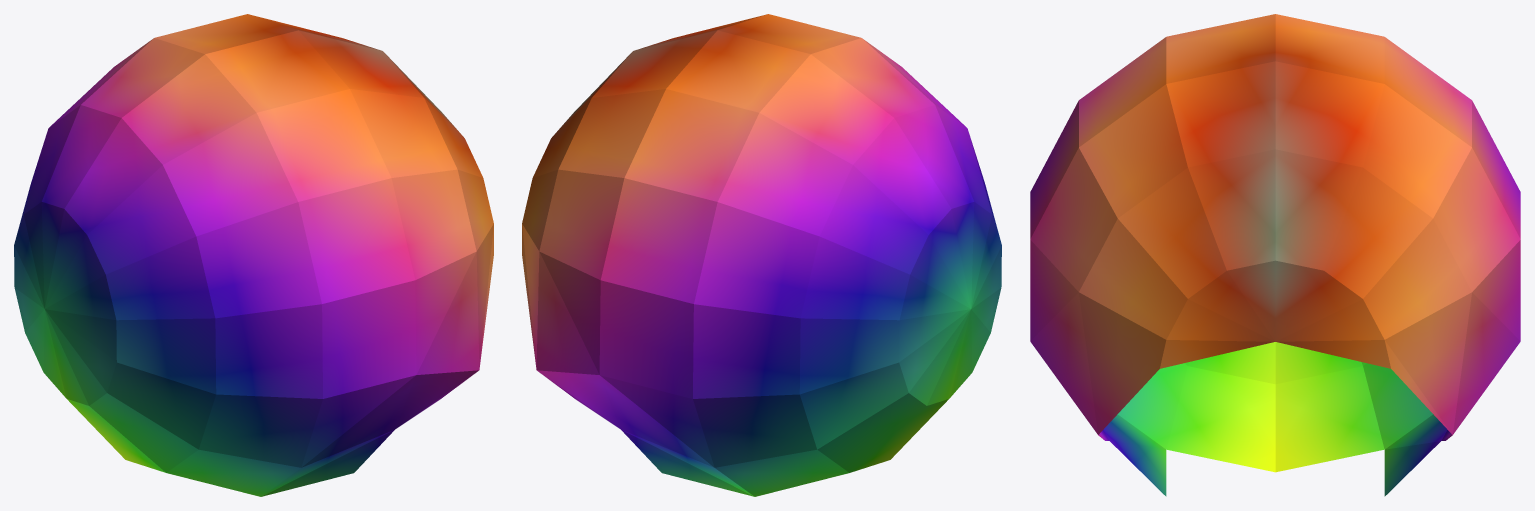
The model's file is CLOWN WIG.fbx.
3 renders of one model, left to right at view 1: azimuth 30°, elevation 25°; view 2: azimuth 150°, elevation 25°; view 3: azimuth 270°, elevation 25°, orthographic. The views are drawn at different scales.
Visible parts, largest first — view 1: CLOWN_WIG; view 2: CLOWN_WIG; view 3: CLOWN_WIG.
Boxes of the visible parts, <box> form: CLOWN_WIG: <box>14,14,493,496</box>; CLOWN_WIG: <box>522,14,1001,496</box>; CLOWN_WIG: <box>1030,14,1520,496</box>.
Size of the model in its own units: 32.34 by 32.82 by 31.91.
